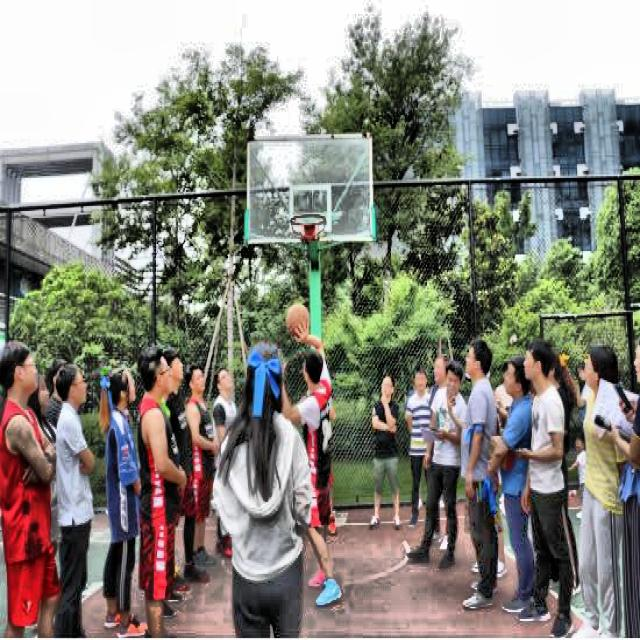board: (285, 304, 310, 338)
